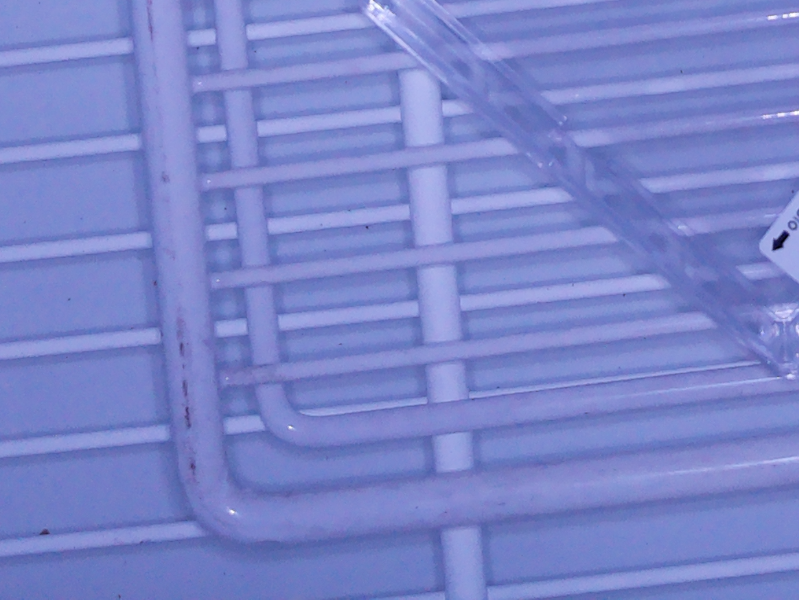plate: (348, 1, 799, 383)
